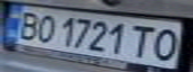1: (106, 20, 130, 56), (54, 15, 78, 47)
2: (87, 18, 109, 53)
7: (69, 16, 93, 50)
B: (12, 8, 45, 41)
O: (145, 26, 187, 62), (30, 12, 60, 43)
T: (124, 22, 160, 58)
